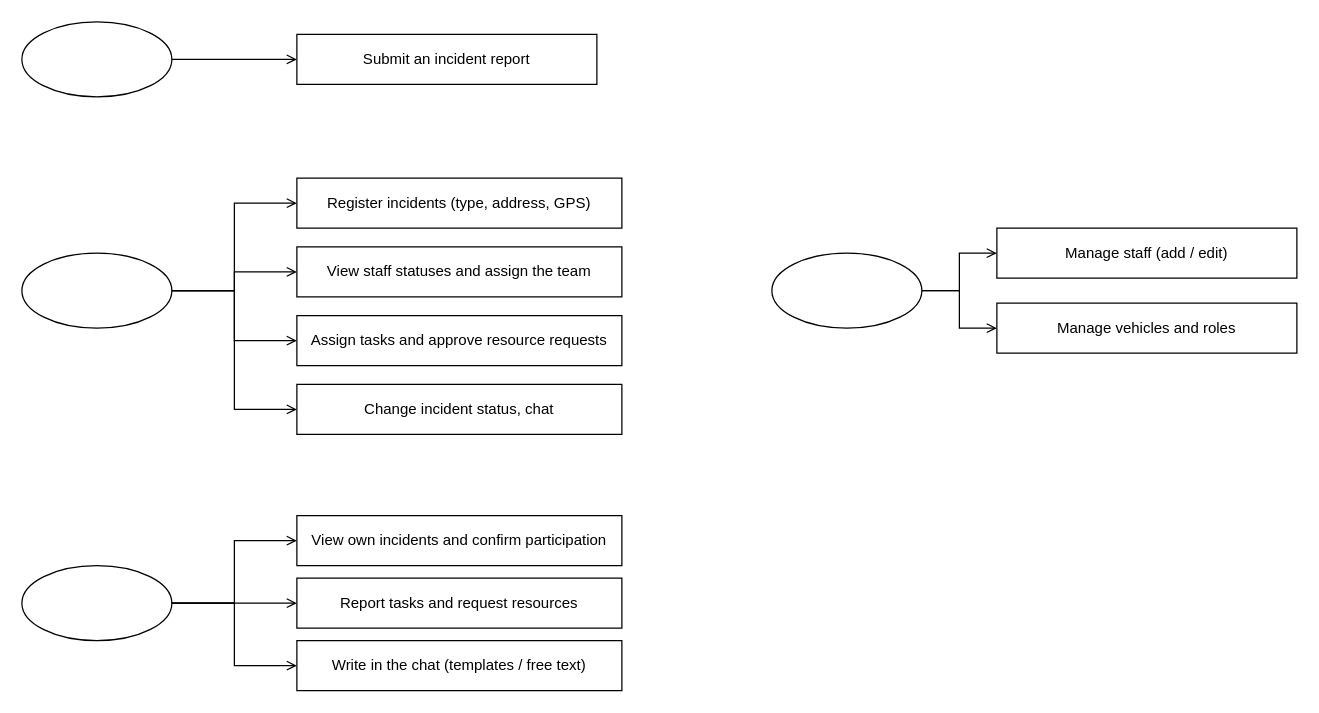
This 1319x713 diagram has some shape labels left out. The shapes that lost their labels are listed below. From the top down, each one's box as (x1, y1, x2, y2) in pixels, then its label:
(21, 21, 172, 97): Citizen (no login)
(21, 252, 172, 328): Dispatcher (control room)
(771, 252, 922, 328): Administrator
(21, 564, 172, 641): Firefighter
